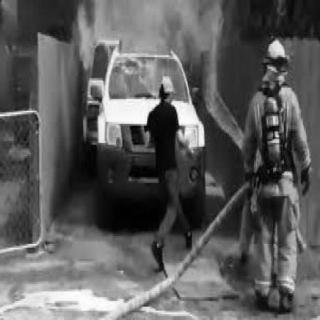Fire: (74, 9, 96, 71)
Smoke: (109, 8, 194, 44)
